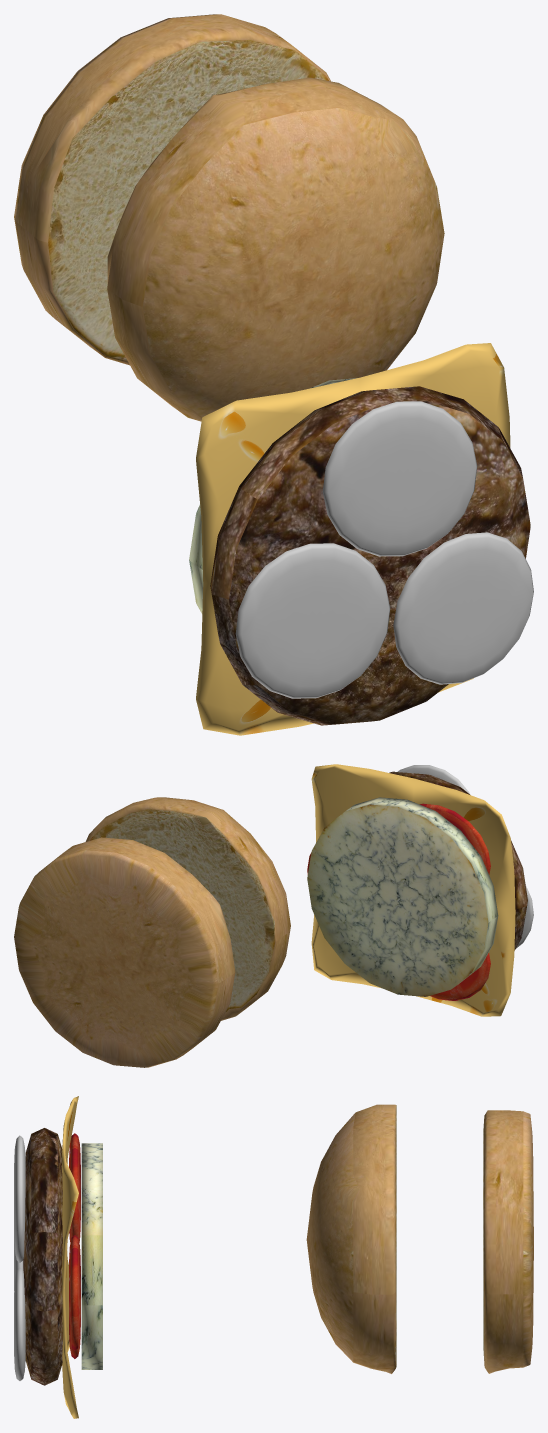
File: burger2.fbx
3 renders of one model, top to bottom at view 1: azimuth 30°, elevation 25°; view 2: azimuth 150°, elevation 25°; view 3: azimuth 270°, elevation 25°, orthographic. The views are drawn at different scales.
Parts seen in each view (by area): view 1: topBun, onion, bottomBun, patty, cheese, whatsthis; view 2: bottomBun, whatsthis, topBun, cheese, tomato, patty, onion; view 3: topBun, bottomBun, patty, whatsthis, cheese, onion, tomato.
Boxes of the visible parts, x1,y1,x2,y2 form: topBun: [107, 77, 444, 421]; onion: [235, 401, 533, 698]; bottomBun: [14, 14, 330, 365]; patty: [210, 386, 530, 725]; cheese: [196, 343, 510, 735]; whatsthis: [189, 378, 357, 613]; bottomBun: [14, 837, 235, 1067]; whatsthis: [307, 797, 498, 996]; topBun: [85, 797, 290, 1020]; cheese: [311, 764, 515, 1016]; tomato: [307, 803, 490, 1000]; patty: [389, 771, 527, 950]; onion: [397, 765, 533, 948]; topBun: [306, 1104, 396, 1373]; bottomBun: [483, 1110, 533, 1373]; patty: [23, 1128, 62, 1385]; whatsthis: [81, 1143, 102, 1369]; cheese: [61, 1096, 78, 1418]; onion: [14, 1135, 25, 1380]; tomato: [69, 1133, 80, 1358].
Bounding box in the file's own units: 261 × 233 × 362.
